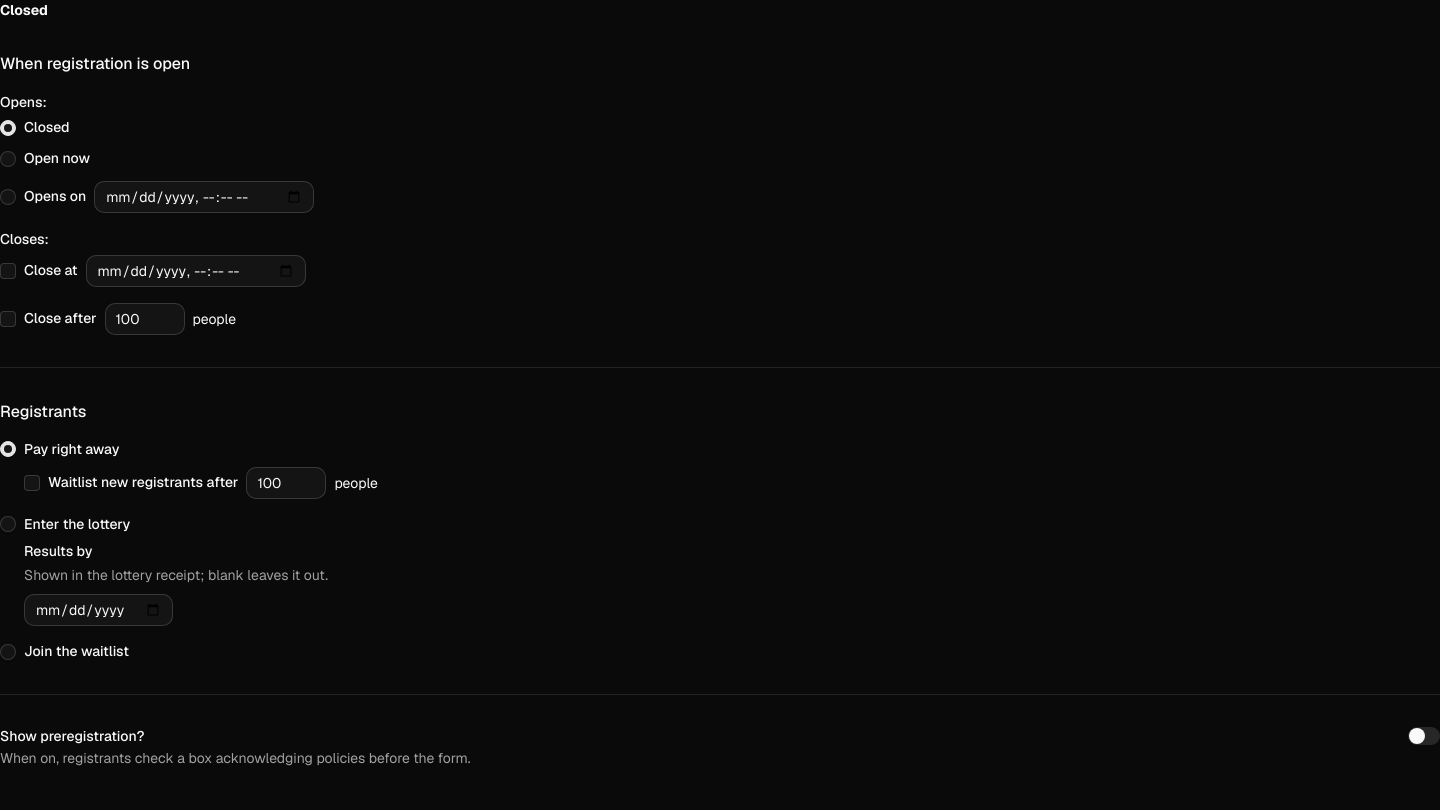
Test case: RegistrationForm › opening › opens once confirmed, saving and summarizing it
The width and height of the screenshot is (1440, 810).
Click the radio button named "Open now" next to "Open now".
click(8, 159)  # box [0,151,16,167]
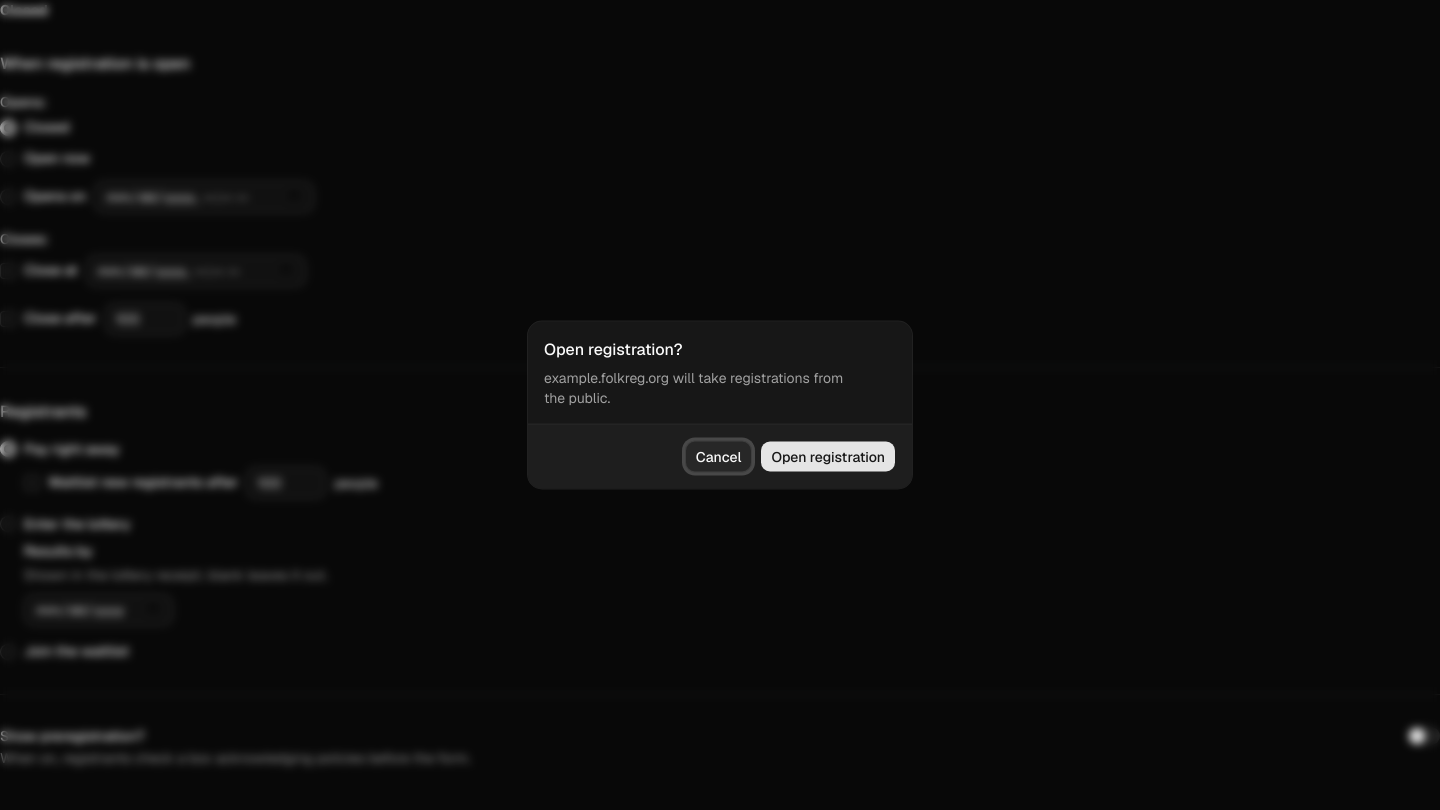
Click the button "Open registration".
click(828, 456)  # box [760,440,896,472]
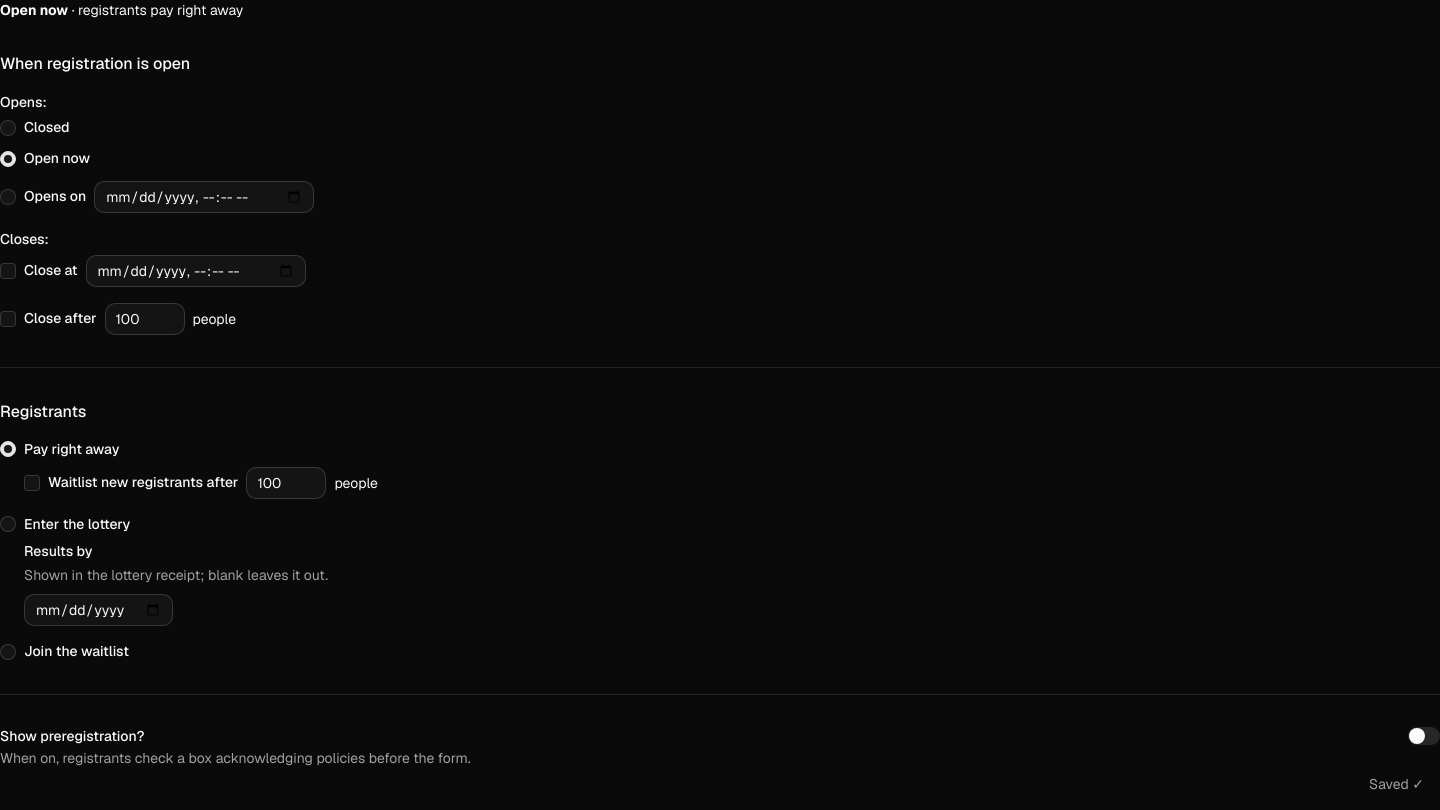
Result: the 2nd radio button named "Open now" is checked at [0,151,16,167]
Result: the element showing "Open now · registrants pay right away" is shown at [0,1,243,19]
